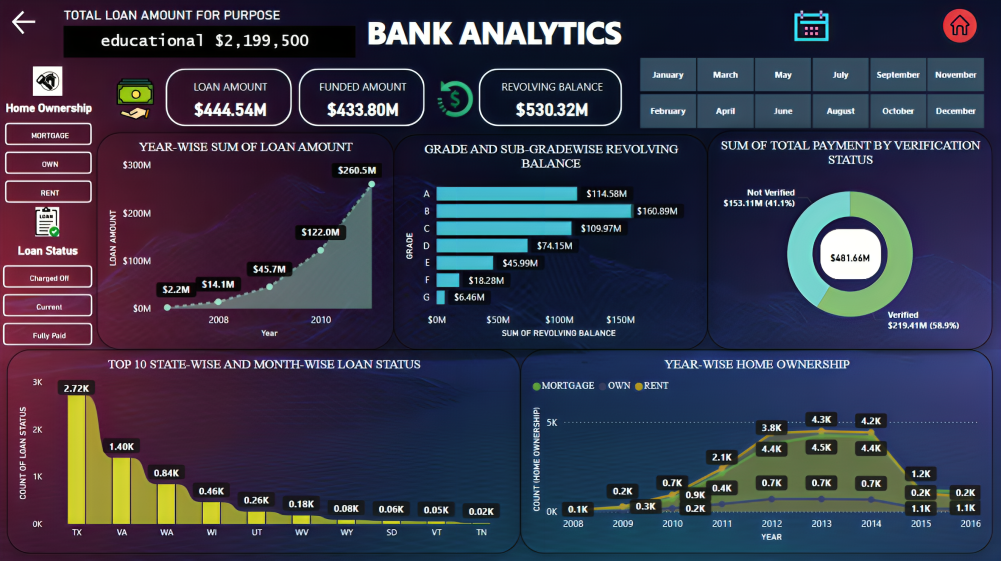

Layout of this report page (visuals, bound fields, positions):
{"tool":"tableau","page":{"name":"Dashboard","canvas":[1000,1000],"units":"permille","ordinal":0},"visuals":[{"type":"image","param":"Image/Bank1.png","box":[24.7,5.8,85.1,128.9]},{"type":"worksheet","title":"kpi2","mark":"Automatic","rows":["revol_bal"],"cols":["grade","sub_grade"],"box":[530.5,13.9,463.5,458.8]},{"type":"text","box":[127.3,25.6,379.6,81.3]},{"type":"worksheet","title":"kpi 1","mark":"Line","rows":["loan_amnt"],"cols":["issue_d"],"box":[143.6,127.8,382.6,336.8]},{"type":"worksheet","title":"Total","mark":"Automatic","box":[3,141.7,144.2,328.7]},{"type":"filter","title":"kpi 4","param":"[federated.0j64x8q0si9wde1bczyvn1rde90j].[none:loan_status:nk]","box":[6,470.4,101.4,89.4]},{"type":"worksheet","title":"kpi 4","mark":"Bar","rows":["addr_state"],"cols":["loan_status"],"box":[118.3,471.5,235.4,521.5]},{"type":"worksheet","title":"kpi3","mark":"Pie","box":[759.8,478.5,236,512.2]},{"type":"worksheet","title":"kpi 5","mark":"Bar","rows":["last_pymnt_d"],"cols":["home_ownership","last_pymnt_d"],"box":[359.1,485.5,396.5,501.7]},{"type":"filter","title":"kpi 4","param":"[federated.0j64x8q0si9wde1bczyvn1rde90j].[mn:last_pymnt_d:ok]","box":[4.8,570.3,104.4,90.6]},{"type":"parameter","param":"[Parameters].[Parameter 1]","box":[4.2,678.3,105,87.1]},{"type":"filter","title":"kpi2","param":"[federated.0j64x8q0si9wde1bczyvn1rde90j].[none:grade:nk]","box":[4.8,785.1,105.6,204.4]}]}

Visuals, with their boxes on the dashboard's canvas, which has no fixed pixel size, in thousandths of its width and height (x1, y1, x2, y2). These are canvas units, not pixel positions in the 1001x561 screenshot, which may show the page scaled, cropped or inside an application window:
image: 25, 6, 110, 135
"kpi2" worksheet: 530, 14, 994, 473
text: 127, 26, 507, 107
"kpi 1" worksheet (Line marks): 144, 128, 526, 465
"Total" worksheet: 3, 142, 147, 470
"kpi 4" filter: 6, 470, 107, 560
"kpi 4" worksheet (Bar marks): 118, 472, 354, 993
"kpi3" worksheet (Pie marks): 760, 478, 996, 991
"kpi 5" worksheet (Bar marks): 359, 486, 756, 987
"kpi 4" filter: 5, 570, 109, 661
parameter: 4, 678, 109, 765
"kpi2" filter: 5, 785, 110, 990
